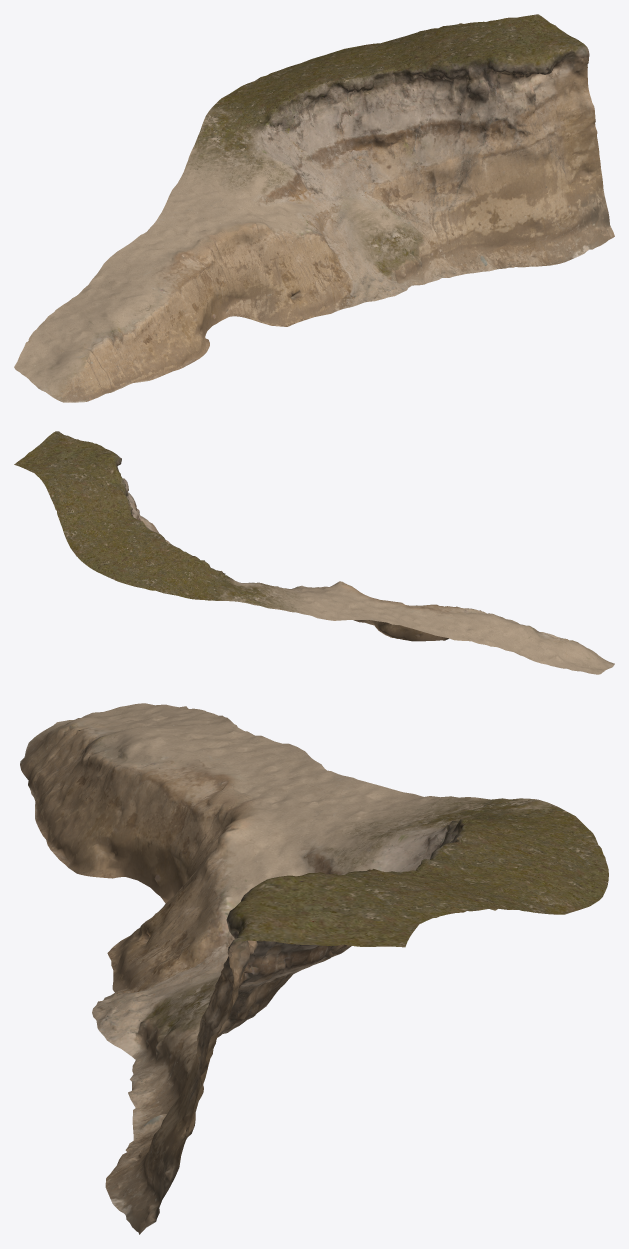
Rendered from beach_cliff_02_ending_left.fbx.
The picture shows the model from 3 angles, top to bottom: view 1: azimuth 30°, elevation 25°; view 2: azimuth 150°, elevation 25°; view 3: azimuth 270°, elevation 25°; orthographic projection. The views are drawn at different scales.
Visible parts, largest first — view 1: beach_cliff_02_ending_left_LOD0; view 2: beach_cliff_02_ending_left_LOD0; view 3: beach_cliff_02_ending_left_LOD0.
Part boxes in pixels (<box>): beach_cliff_02_ending_left_LOD0: <box>14,14,614,402</box>; beach_cliff_02_ending_left_LOD0: <box>14,431,614,674</box>; beach_cliff_02_ending_left_LOD0: <box>20,703,608,1234</box>.
Size of what is drawn, in the model's own units: 2300 by 641 by 1129.
